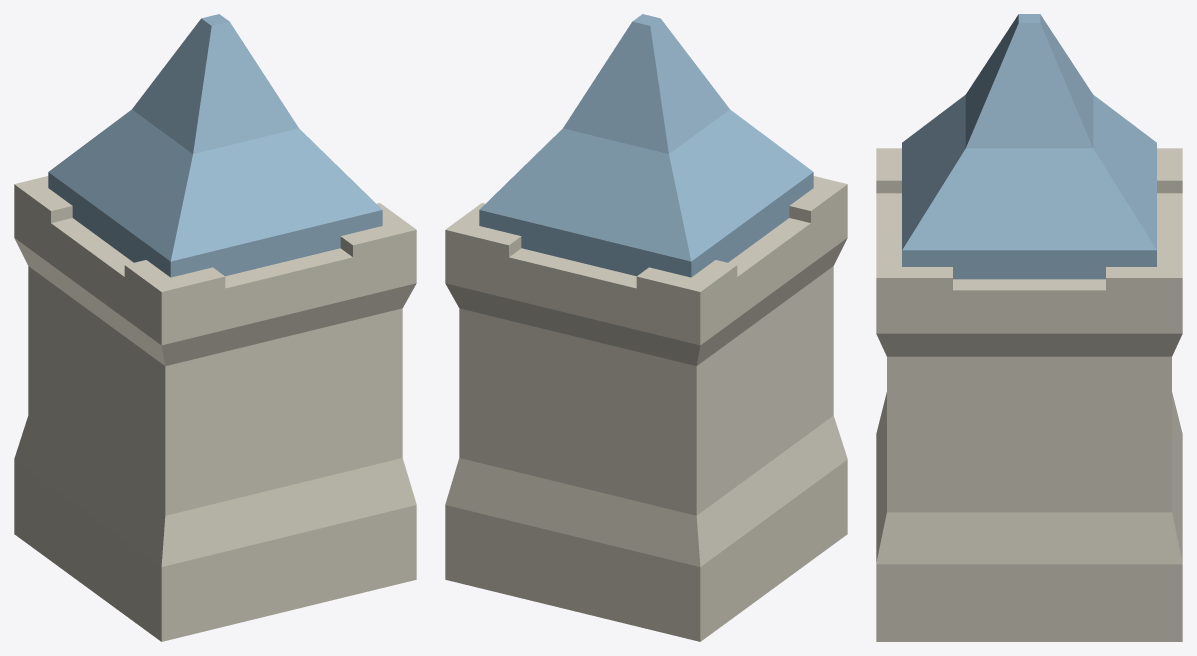
The model's file is towerSquareRoof.glb.
3 renders of one model, left to right at view 1: azimuth 30°, elevation 25°; view 2: azimuth 150°, elevation 25°; view 3: azimuth 270°, elevation 25°, orthographic. The views are drawn at different scales.
Visible parts, largest first — view 1: towerSquareRoof; view 2: towerSquareRoof; view 3: towerSquareRoof.
Part boxes in pixels (<box>): towerSquareRoof: <box>14,14,416,641</box>; towerSquareRoof: <box>445,14,847,641</box>; towerSquareRoof: <box>876,14,1182,641</box>.
Size of the model in its own units: 10 by 20.1 by 10.
